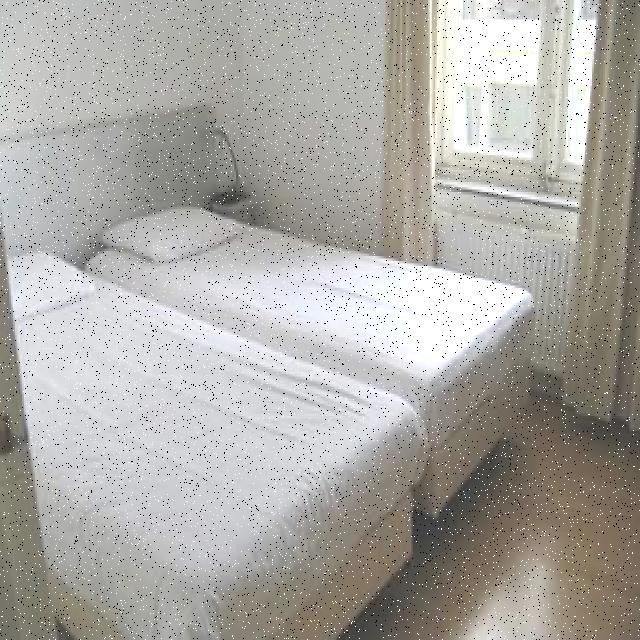bed: (3, 189, 497, 640)
